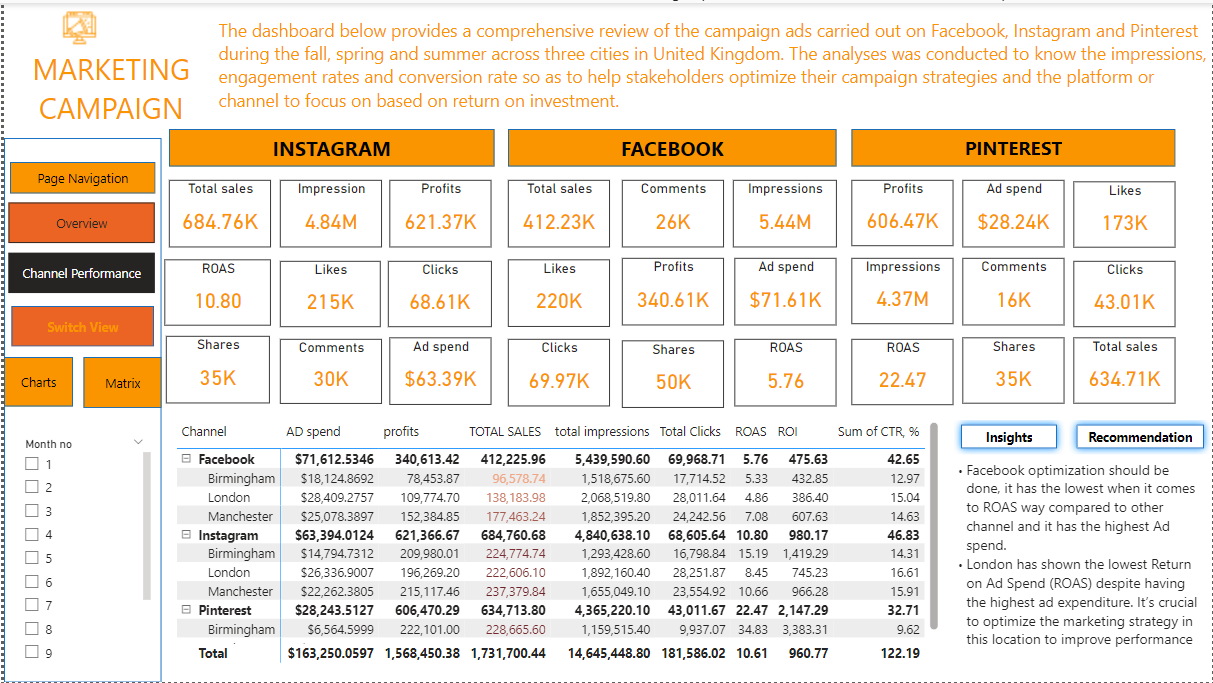

The dashboard page shown, as its layout file describes it:
{"tool":"powerbi","page":{"name":"Channel Performance","canvas":[1280,720],"ordinal":1},"visuals":[{"type":"shape","box":[0,143.2,167,577.4],"z":0},{"type":"shape","box":[175.6,133.6,345.2,39.8],"z":1000},{"type":"shape","box":[535.1,133.6,348.3,39.8],"z":2000},{"type":"shape","box":[899.3,133.6,343.6,39.8],"z":3000},{"type":"card","title":"Total sales","fields":{"Values":["data.IG Total sales"]},"box":[175.6,187.7,108.2,71.6],"z":4000},{"type":"card","title":"Ad spend","fields":{"Values":["data.IG AD SPEND"]},"box":[409.4,354.7,108.2,71.6],"z":5000},{"type":"card","title":"Clicks","fields":{"Values":["data.IG Total click"]},"box":[407.8,273.6,109.8,70],"z":6000},{"type":"card","title":"Profits","fields":{"Values":["data.IG profit"]},"box":[409.4,187.7,108.2,71.6],"z":7000},{"type":"card","title":"Impression","fields":{"Values":["data.IG Impression"]},"box":[293.3,187.7,108.2,71.6],"z":8000},{"type":"card","title":"Shares","fields":{"Values":["data.Ig shares"]},"box":[172.4,353.1,109.8,71.6],"z":9000},{"type":"card","title":"ROAS","fields":{"Values":["data.IG ROAS"]},"box":[170.8,272,112.9,70],"z":10000},{"type":"card","title":"Comments","fields":{"Values":["data.iG comments"]},"box":[293.3,356.3,108.2,68.4],"z":11000},{"type":"card","title":"Likes","fields":{"Values":["data.iG Likes"]},"box":[293.3,273.6,106.6,70],"z":12000},{"type":"card","title":"Total sales","fields":{"Values":["data.FB tOtal sales"]},"box":[535.1,187.7,108.2,71.6],"z":13000},{"type":"card","title":"Comments","fields":{"Values":["data.FB comments"]},"box":[655.9,187.7,108.2,71.6],"z":14000},{"type":"card","title":"Impressions","fields":{"Values":["data.FB impression"]},"box":[773.6,187.7,109.8,71.6],"z":15000},{"type":"card","title":"Likes","fields":{"Values":["data.FB Likes"]},"box":[535.1,272,108.2,71.6],"z":16000},{"type":"card","title":"ROAS","fields":{"Values":["data.FB ROAS"]},"box":[775.2,356.3,108.2,71.6],"z":17000},{"type":"card","title":"Shares","fields":{"Values":["data.FB shares"]},"box":[655.9,357.9,108.2,71.6],"z":18000},{"type":"card","title":"Ad spend","fields":{"Values":["data.FB AD spend"]},"box":[775.2,270.4,108.2,71.6],"z":19000},{"type":"card","title":"Profits","fields":{"Values":["data.FB profit"]},"box":[655.9,270.4,108.2,71.6],"z":20000},{"type":"card","title":"Clicks","fields":{"Values":["data.FB clicks"]},"box":[535.1,356.3,108.2,71.6],"z":21000},{"type":"card","title":"Ad spend","fields":{"Values":["data.PT adspend"]},"box":[1017,187.7,108.2,71.6],"z":22000},{"type":"card","title":"Clicks","fields":{"Values":["data.PT clicks"]},"box":[1134.7,273.6,108.2,70],"z":23000},{"type":"card","title":"Comments","fields":{"Values":["data.PT comments"]},"box":[1017,270.4,108.2,71.6],"z":24000},{"type":"card","title":"Impressions","fields":{"Values":["data.PT impression"]},"box":[899.3,270.4,108.2,70],"z":25000},{"type":"card","title":"Likes","fields":{"Values":["data.PT likes"]},"box":[1134.7,189.3,108.2,70],"z":26000},{"type":"card","title":"Profits","fields":{"Values":["data.PT profit"]},"box":[899.3,187.7,108.2,70],"z":27000},{"type":"card","title":"ROAS","fields":{"Values":["data.PT ROAS"]},"box":[899.3,356.3,108.2,70],"z":28000},{"type":"card","title":"Shares","fields":{"Values":["data.PT shares"]},"box":[1017,354.7,108.2,70],"z":29000},{"type":"card","title":"Total sales","fields":{"Values":["data.PT totalsales"]},"box":[1134.7,354.7,108.2,70],"z":30000},{"type":"shape","box":[0,375.4,73.2,52.5],"z":33000},{"type":"shape","box":[84.3,375.4,82.7,54.1],"z":34000},{"type":"shape","box":[8,321.3,151.1,42.9],"z":35000},{"type":"slicer","fields":{"Values":["DATES.Month no"]},"box":[9.5,454.9,151.1,243.4],"z":36000},{"type":"pageNavigator","box":[4.8,211.6,155.9,97],"z":37000},{"type":"shape","box":[6.4,168.6,154.3,33.4],"z":38000},{"type":"shape","box":[227.5,0,1053,130.4],"z":39000},{"type":"shape","box":[0,0,227.5,130.4],"z":40000},{"type":"image","box":[31.8,0,97,52.5],"z":41000},{"type":"shape","box":[1006.9,439,117.7,41.4],"z":42000},{"type":"shape","box":[1129.3,439,151.1,41.4],"z":43000},{"type":"textbox","box":[1006.9,480.4,273.6,224.3],"z":44000},{"type":"textbox","box":[997.6,479.5,281.2,225.3],"z":46000},{"type":"lineStackedColumnComboChart","title":"Monthly Ads investment vs ROAS","fields":{"Y":["data.AD spend"],"Category":["DATES.Month no"],"Y2":["data.ROAS"]},"box":[174.7,438.9,414.5,280.4],"z":46001},{"type":"lineStackedColumnComboChart","title":"Monthly Engagement reach vs Clicks","fields":{"Y":["data.total impressions"],"Category":["DATES.Month no"],"Y2":["data.Total Clicks"]},"box":[604.4,439,392.9,281.5],"z":46002}]}

Visuals, with their boxes in screenshot pixels (x1, y1, x2, y2), scaled from the page's 1280x720 canvas onto the 1213x683 screenshot:
shape: Rect(0, 136, 158, 682)
shape: Rect(166, 127, 494, 164)
shape: Rect(507, 127, 837, 164)
shape: Rect(852, 127, 1178, 164)
"Total sales" card: Rect(166, 178, 269, 246)
"Ad spend" card: Rect(388, 336, 491, 404)
"Clicks" card: Rect(386, 260, 491, 326)
"Profits" card: Rect(388, 178, 491, 246)
"Impression" card: Rect(278, 178, 380, 246)
"Shares" card: Rect(163, 335, 267, 403)
"ROAS" card: Rect(162, 258, 269, 324)
"Comments" card: Rect(278, 338, 380, 403)
"Likes" card: Rect(278, 260, 379, 326)
"Total sales" card: Rect(507, 178, 610, 246)
"Comments" card: Rect(622, 178, 724, 246)
"Impressions" card: Rect(733, 178, 837, 246)
"Likes" card: Rect(507, 258, 610, 326)
"ROAS" card: Rect(735, 338, 837, 406)
"Shares" card: Rect(622, 340, 724, 407)
"Ad spend" card: Rect(735, 257, 837, 324)
"Profits" card: Rect(622, 257, 724, 324)
"Clicks" card: Rect(507, 338, 610, 406)
"Ad spend" card: Rect(964, 178, 1066, 246)
"Clicks" card: Rect(1075, 260, 1178, 326)
"Comments" card: Rect(964, 257, 1066, 324)
"Impressions" card: Rect(852, 257, 955, 323)
"Likes" card: Rect(1075, 180, 1178, 246)
"Profits" card: Rect(852, 178, 955, 244)
"ROAS" card: Rect(852, 338, 955, 404)
"Shares" card: Rect(964, 336, 1066, 403)
"Total sales" card: Rect(1075, 336, 1178, 403)
shape: Rect(0, 356, 69, 406)
shape: Rect(80, 356, 158, 407)
shape: Rect(8, 305, 151, 345)
slicer - DATES.Month no: Rect(9, 432, 152, 662)
pageNavigator: Rect(5, 201, 152, 293)
shape: Rect(6, 160, 152, 192)
shape: Rect(216, 0, 1212, 124)
shape: Rect(0, 0, 216, 124)
image: Rect(30, 0, 122, 50)
shape: Rect(954, 416, 1066, 456)
shape: Rect(1070, 416, 1212, 456)
textbox: Rect(954, 456, 1212, 668)
textbox: Rect(945, 455, 1212, 669)
"Monthly Ads investment vs ROAS" lineStackedColumnComboChart: Rect(166, 416, 558, 682)
"Monthly Engagement reach vs Clicks" lineStackedColumnComboChart: Rect(573, 416, 945, 682)
